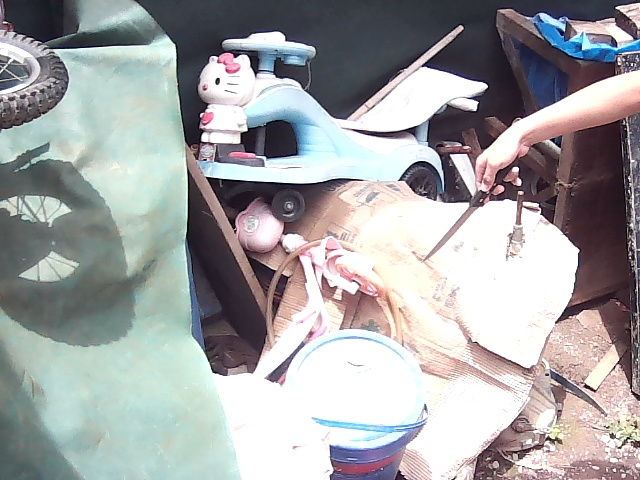cuchillo: (417, 189, 489, 266)
